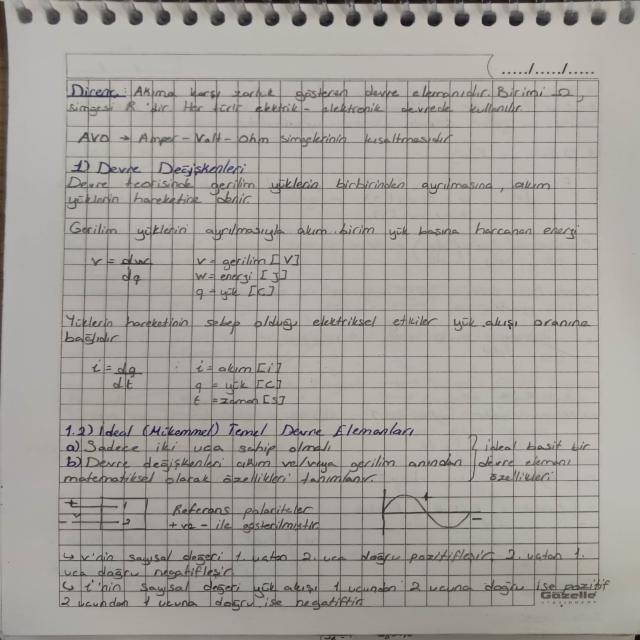image: (368, 478, 491, 545), (49, 495, 143, 539)
math: (82, 247, 311, 305), (80, 358, 312, 413)
text: (59, 419, 465, 493), (56, 307, 597, 347), (62, 79, 590, 116), (55, 544, 585, 580), (58, 577, 616, 611), (64, 175, 559, 212), (61, 215, 588, 244), (164, 498, 325, 537), (477, 431, 596, 483), (70, 126, 270, 150), (67, 157, 256, 175), (271, 130, 460, 147)
